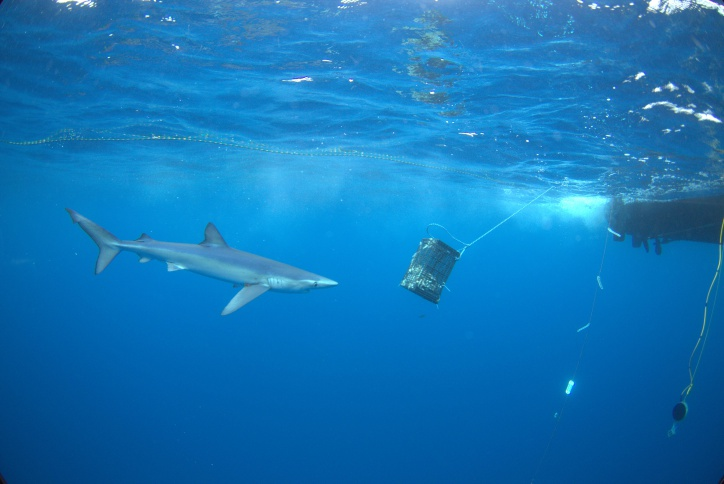Azul: (61, 198, 355, 324)
